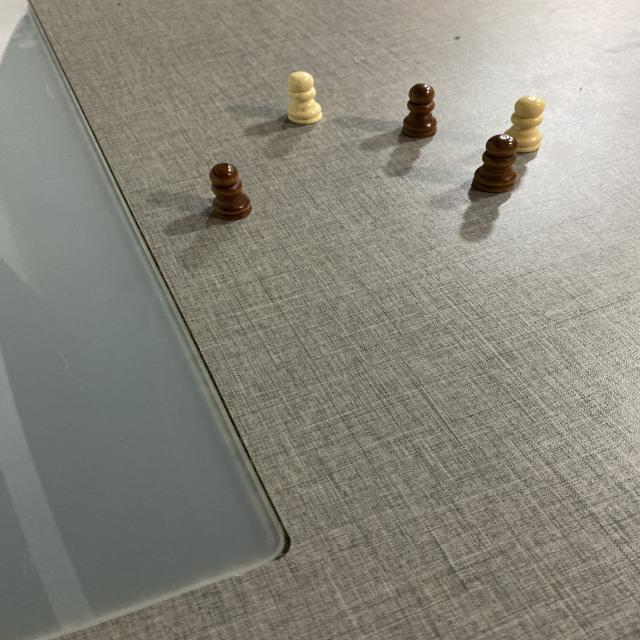Black-Pawn: (471, 134, 518, 192), (209, 162, 249, 220), (402, 84, 436, 138)
White-Pawn: (504, 95, 544, 151), (285, 70, 320, 124)
